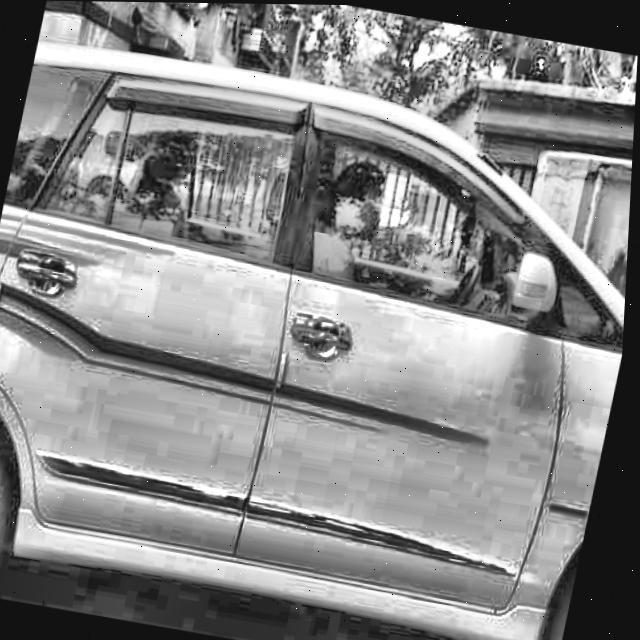light_vehicle: (0, 33, 639, 640)
